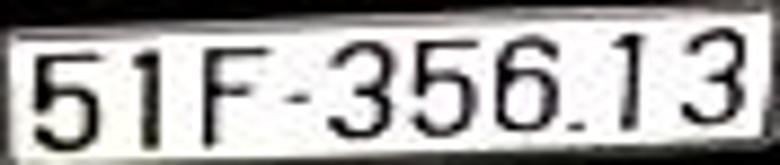-: (281, 92, 314, 106)
.: (565, 115, 591, 137)
1: (124, 48, 166, 151), (609, 27, 641, 135)
3: (679, 25, 746, 131), (324, 41, 394, 140)
5: (31, 51, 103, 154), (412, 37, 481, 137)
6: (495, 32, 563, 133)
F: (199, 47, 276, 148)
